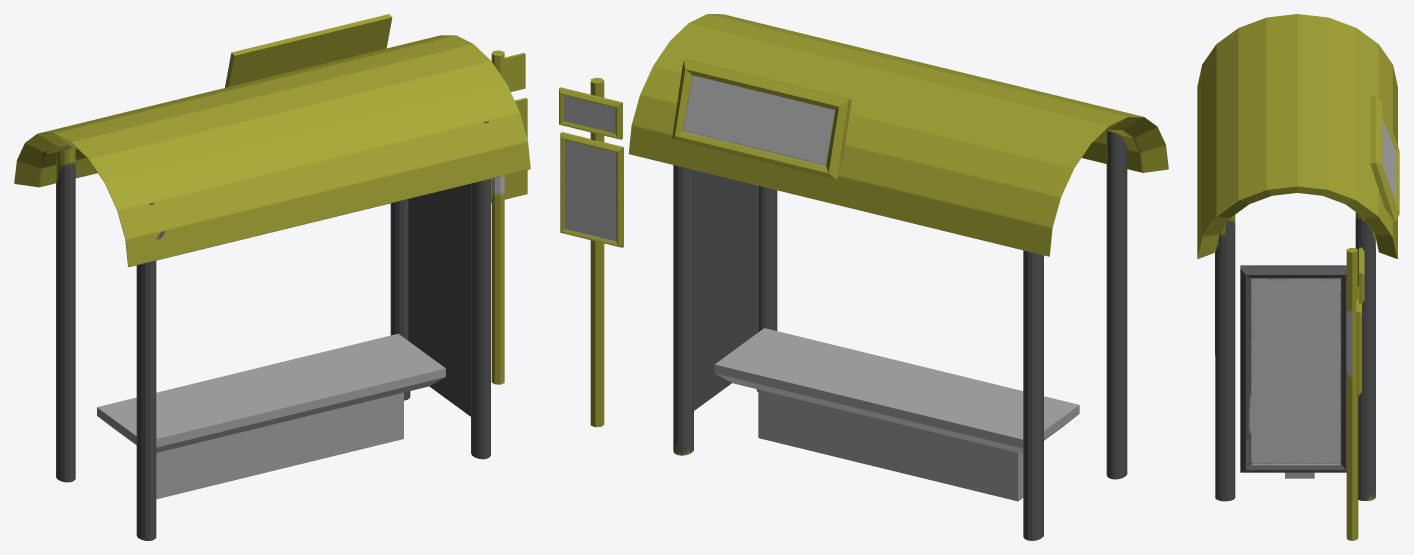
The model's file is Fermata bus.fbx.
3 renders of one model, left to right at view 1: azimuth 30°, elevation 25°; view 2: azimuth 150°, elevation 25°; view 3: azimuth 270°, elevation 25°, orthographic. The views are drawn at different scales.
Parts seen in each view (by area): view 1: Bus_Pensilina, Bus_Panchina; view 2: Bus_Pensilina, Bus_Panchina; view 3: Bus_Pensilina, Bus_Panchina.
Part boxes in pixels (x1=…): Bus_Pensilina: x1=14, y1=35, x2=530, y2=540; Bus_Panchina: x1=97, y1=14, x2=527, y2=499; Bus_Pensilina: x1=628, y1=14, x2=1168, y2=540; Bus_Panchina: x1=559, y1=59, x2=1079, y2=501; Bus_Pensilina: x1=1197, y1=14, x2=1397, y2=501; Bus_Panchina: x1=1240, y1=95, x2=1399, y2=540.
Bounding box in the file's own units: 439 × 327 × 179.
